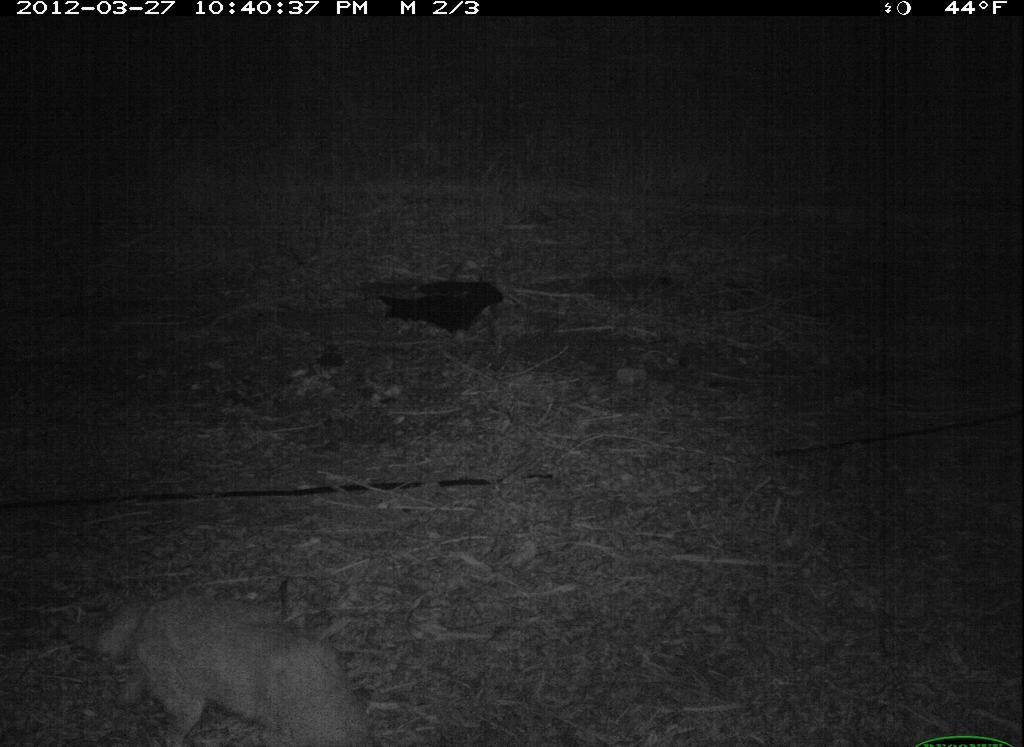coyote: (89, 584, 374, 745)
